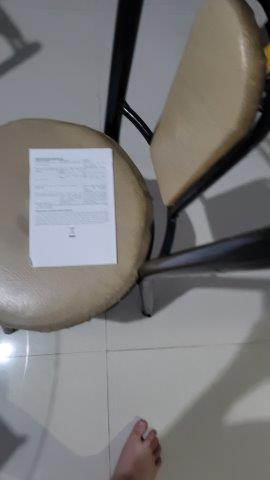kertas: (28, 146, 118, 267)
